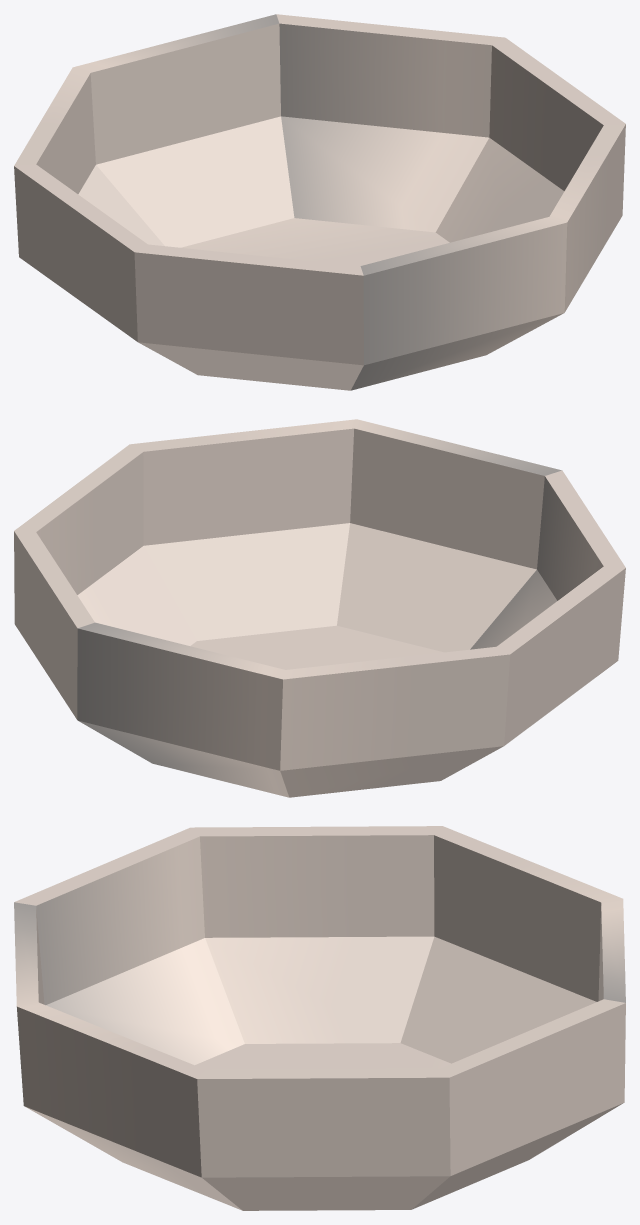
Rendered from Living_Room_bowls3.fbx.
3 views of the same model, one above another, from view 1: azimuth 30°, elevation 25°; view 2: azimuth 150°, elevation 25°; view 3: azimuth 270°, elevation 25° (orthographic). The views are drawn at different scales.
Visible parts, largest first — view 1: Living_Room_bowls3; view 2: Living_Room_bowls3; view 3: Living_Room_bowls3.
Boxes of the visible parts, x1,y1,x2,y2 form: Living_Room_bowls3: (14, 14, 625, 390); Living_Room_bowls3: (14, 419, 625, 797); Living_Room_bowls3: (14, 826, 625, 1210).
Size of the model in its own units: 25.48 by 8.13 by 25.48.
